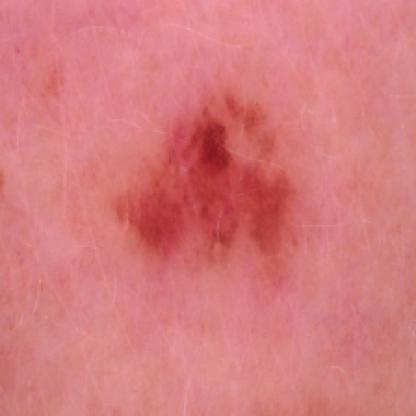benign: (113, 100, 290, 264)
